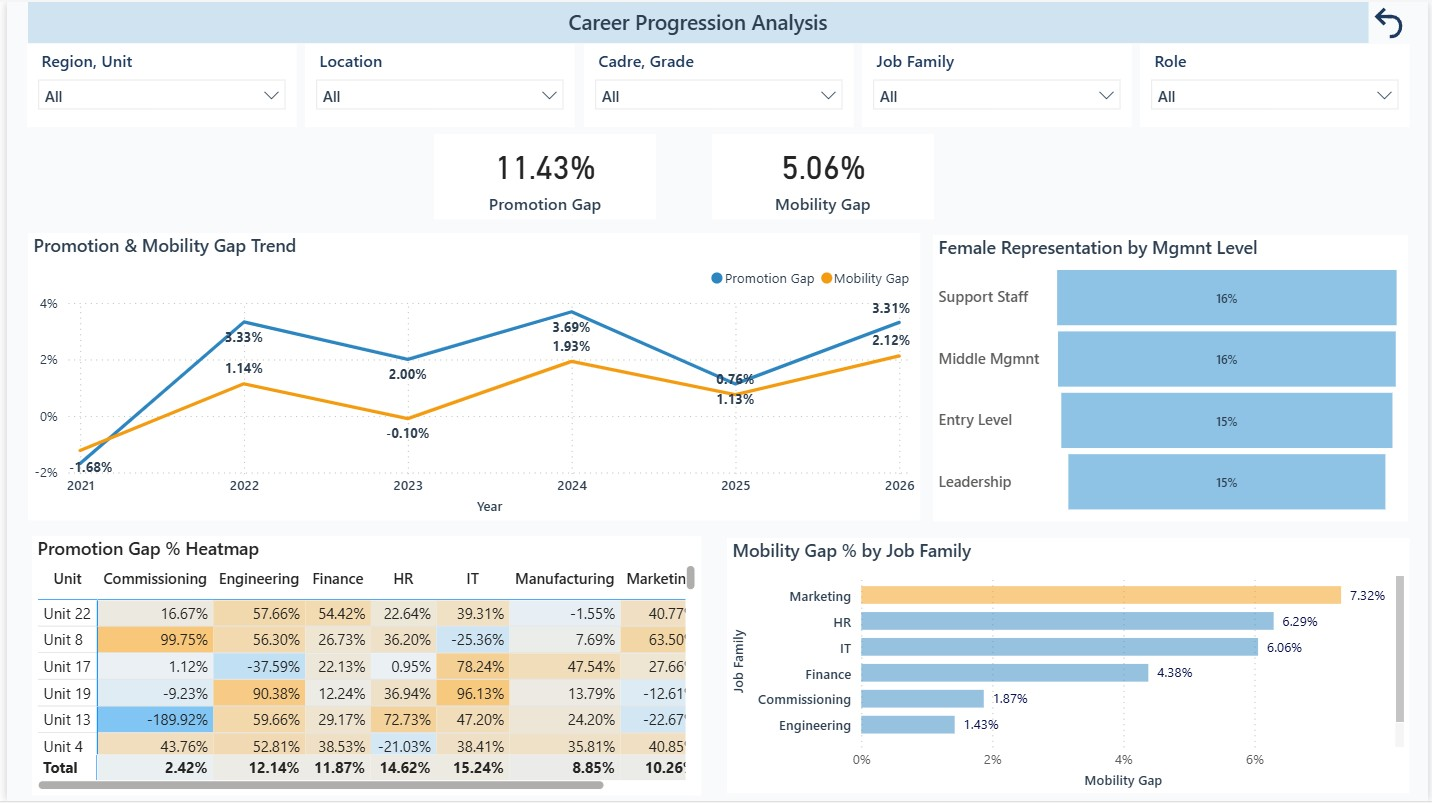

The page's visual inventory and layout, read from the dashboard file:
{"tool":"powerbi","page":{"name":"Career Progression Analysis","canvas":[1280,720],"ordinal":2},"visuals":[{"type":"textbox","box":[18.7,0,1207.6,37.5],"z":0},{"type":"slicer","fields":{"Values":["DIM_Unit_Master.Region","DIM_Unit_Master.Unit"]},"box":[18.2,37.6,243,74.9],"z":0,"group":"g1"},{"type":"slicer","fields":{"Values":["DIM_Location_Master.Location"]},"box":[269,37.6,243,74.9],"z":1000,"group":"g1"},{"type":"card","fields":{"Values":["DIM_DATE_TABLE.Promotion Gap"]},"box":[385.2,118.9,200,77.3],"z":1000},{"type":"slicer","fields":{"Values":["DIM_Grade_Master.Cadre","DIM_Grade_Master.Grade"]},"box":[519.8,37.6,243,74.9],"z":2000,"group":"g1"},{"type":"card","fields":{"Values":["DIM_DATE_TABLE.Mobility Gap"]},"box":[635.5,119.3,199.6,77.3],"z":2000},{"type":"group","id":"g1","title":"Group 1","box":[18.2,37.6,1244.6,75],"z":3000},{"type":"slicer","fields":{"Values":["DIM_Job_Master.JOB_FAMILY"]},"box":[770.6,37.6,243,74.9],"z":3000,"group":"g1"},{"type":"actionButton","box":[1226.3,0,37.5,37.5],"z":4000},{"type":"slicer","fields":{"Values":["DIM_Role_Master.ROLE_NAME"]},"box":[1021.4,37.6,243,74.9],"z":4000,"group":"g1"},{"type":"group","id":"g2","title":"Group 2","box":[834.4,209.5,427.9,257.5],"z":5000},{"type":"funnel","title":"Female Representation by Mgmnt Level","fields":{"Y":["PR_DIV_FACT_EMPLOYEE_MASTER.Female Ratio"],"Category":["DIM_Grade_Master.Level"]},"box":[834.4,209.5,427.8,257.8],"z":5001,"group":"g2"},{"type":"lineChart","title":"Promotion & Mobility Gap Trend","fields":{"Category":["DIM_DATE_TABLE.Date Hierarchy.Year"],"Y":["DIM_DATE_TABLE.Promotion Gap","DIM_DATE_TABLE.Mobility Gap"]},"box":[18.9,208.3,804.1,258.8],"z":6000},{"type":"barChart","title":"Mobility Gap % by Job Family","fields":{"Category":["DIM_Job_Master.Job Family"],"Y":["DIM_DATE_TABLE.Mobility Gap"]},"box":[648.7,482.8,615.2,230.3],"z":7000},{"type":"pivotTable","title":"Promotion Gap % Heatmap","fields":{"Rows":["DIM_Unit_Master.Unit"],"Columns":["DIM_Job_Master.Job Family"],"Values":["DIM_DATE_TABLE.Promotion Gap"]},"box":[22.7,480.8,603.2,233.9],"z":8000}]}

Visuals, with their boxes in screenshot pixels (x1, y1, x2, y2), scaled from the page's 1280x720 canvas onto the 1432x803 screenshot:
textbox: l=21, t=0, r=1372, b=42
slicer - DIM_Unit_Master.Region x DIM_Unit_Master.Unit: l=20, t=42, r=292, b=125
slicer - DIM_Location_Master.Location: l=301, t=42, r=573, b=125
card - DIM_DATE_TABLE.Promotion Gap: l=431, t=133, r=655, b=219
slicer - DIM_Grade_Master.Cadre x DIM_Grade_Master.Grade: l=582, t=42, r=853, b=125
card - DIM_DATE_TABLE.Mobility Gap: l=711, t=133, r=934, b=219
"Group 1" group: l=20, t=42, r=1413, b=126
slicer - DIM_Job_Master.JOB_FAMILY: l=862, t=42, r=1134, b=125
actionButton: l=1372, t=0, r=1414, b=42
slicer - DIM_Role_Master.ROLE_NAME: l=1143, t=42, r=1415, b=125
"Group 2" group: l=933, t=234, r=1412, b=521
"Female Representation by Mgmnt Level" funnel: l=933, t=234, r=1412, b=521
"Promotion & Mobility Gap Trend" lineChart: l=21, t=232, r=921, b=521
"Mobility Gap % by Job Family" barChart: l=726, t=538, r=1414, b=795
"Promotion Gap % Heatmap" pivotTable: l=25, t=536, r=700, b=797
